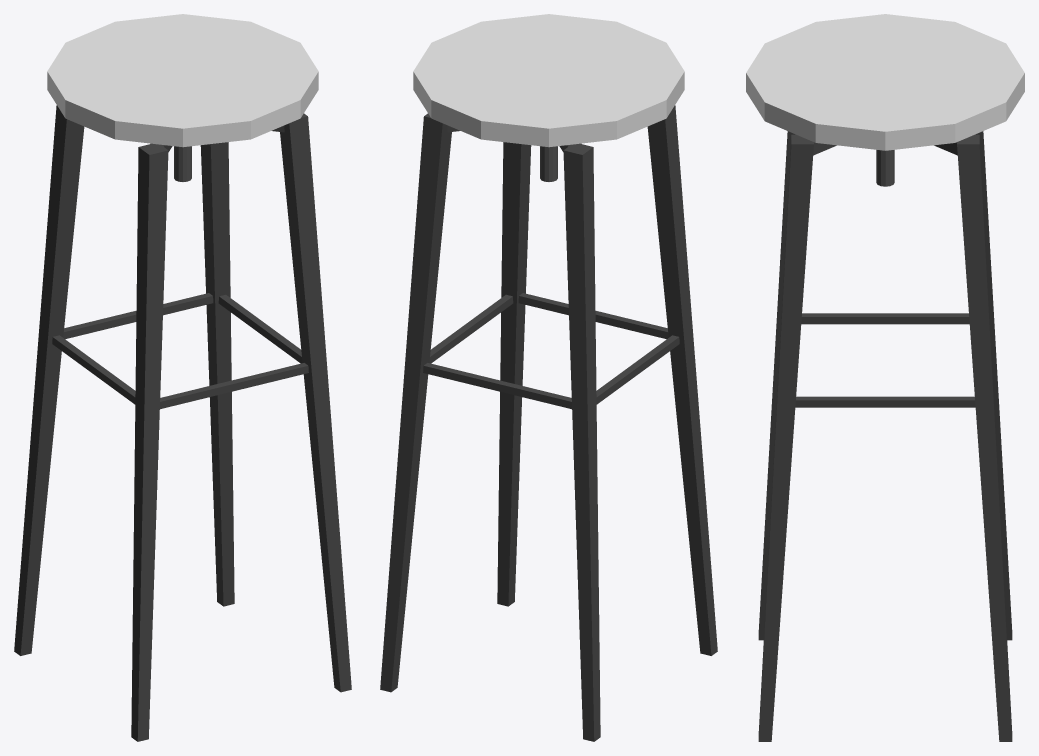
The model's file is Chair_10_C2.fbx.
The picture shows the model from 3 angles, left to right: view 1: azimuth 30°, elevation 25°; view 2: azimuth 150°, elevation 25°; view 3: azimuth 270°, elevation 25°; orthographic projection. The views are drawn at different scales.
Visible parts, largest first — view 1: Chair_10_C2; view 2: Chair_10_C2; view 3: Chair_10_C2.
Boxes of the visible parts, x1,y1,x2,y2 form: Chair_10_C2: [14, 14, 351, 741]; Chair_10_C2: [380, 14, 717, 741]; Chair_10_C2: [746, 14, 1024, 741].
Bounding box in the file's own units: 37.05 × 90.25 × 37.05.
